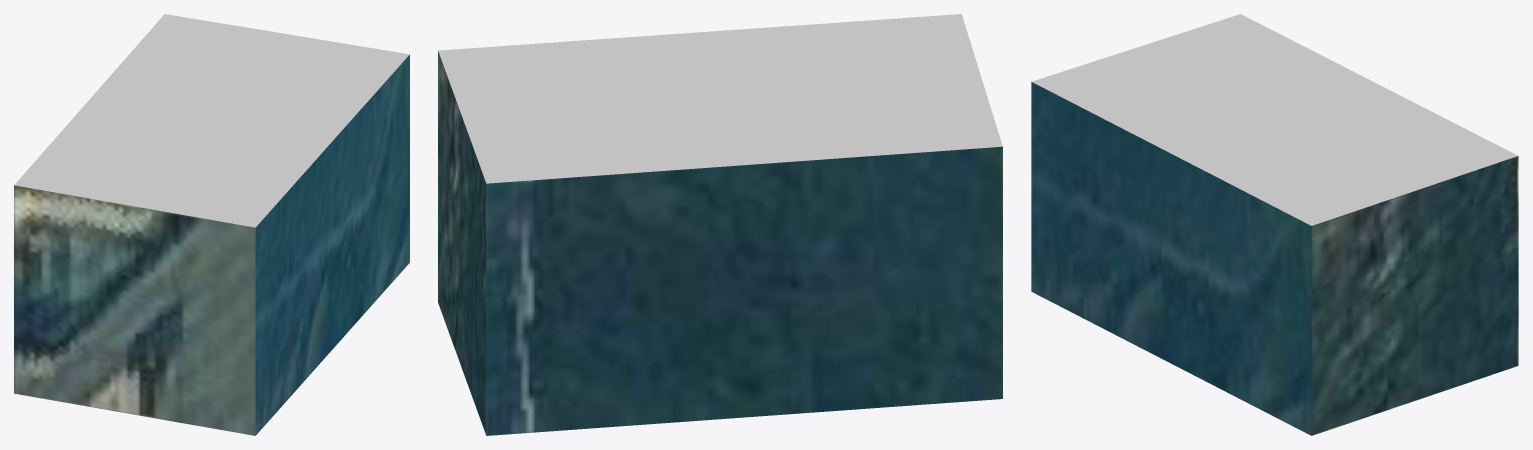
3 renders of one model, left to right at view 1: azimuth 30°, elevation 25°; view 2: azimuth 150°, elevation 25°; view 3: azimuth 270°, elevation 25°, orthographic. The views are drawn at different scales.
Size of the model in its own units: 11.52 by 5.32 by 11.18.
Materials: 3 (1 with a texture image).
